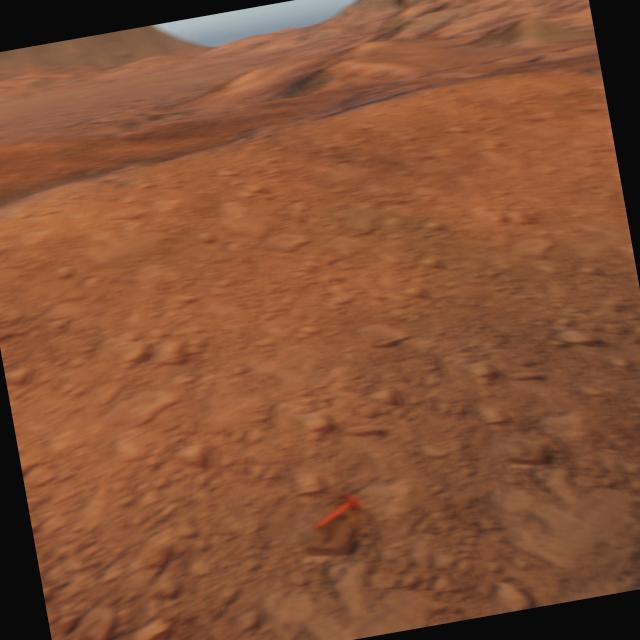newhammer: (310, 490, 364, 530)
